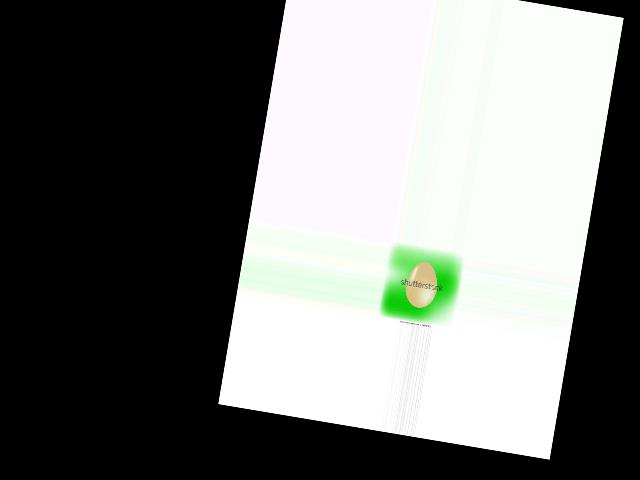egg: (403, 259, 441, 310)
